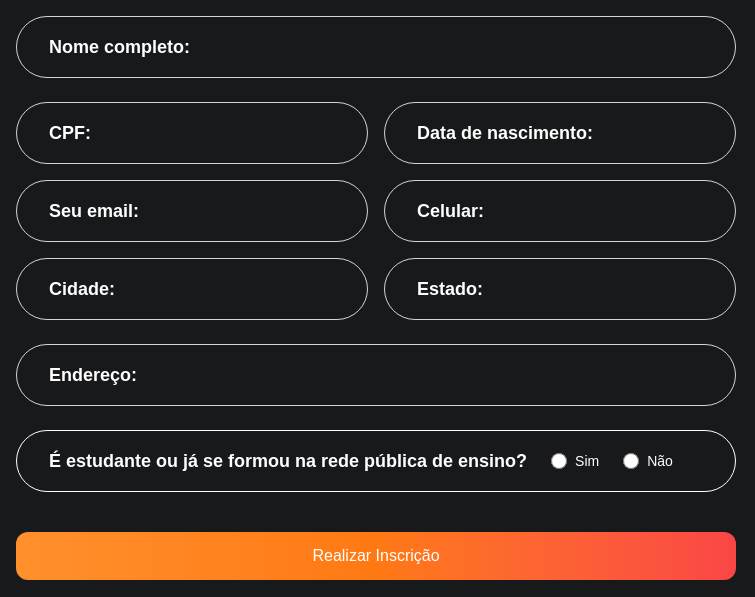
Test: RegistrationForm Component › Form Input Formatting › should format date input
Type "01012000" into the field with placeholder "Data de nascimento:" at (560, 133), box x1=384 y1=102 x2=736 y2=164
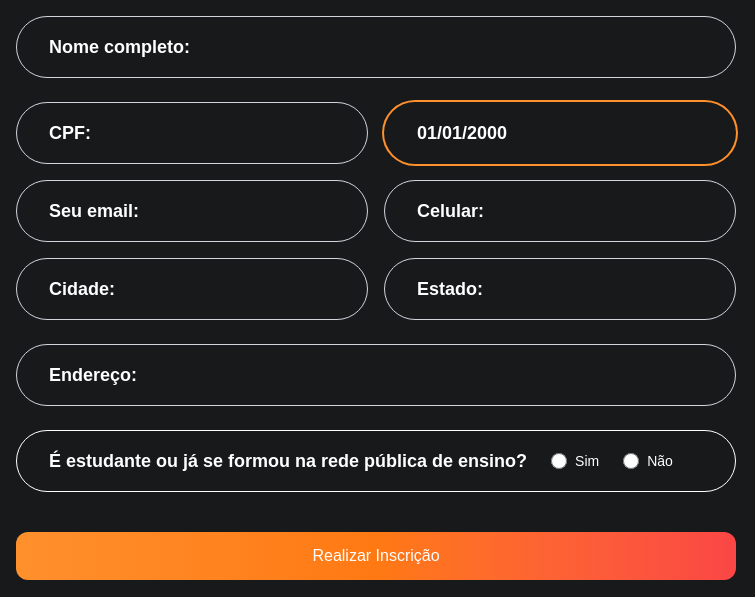
Check: the field with placeholder "Data de nascimento:" holds "01/01/2000", box x1=384 y1=102 x2=736 y2=164
